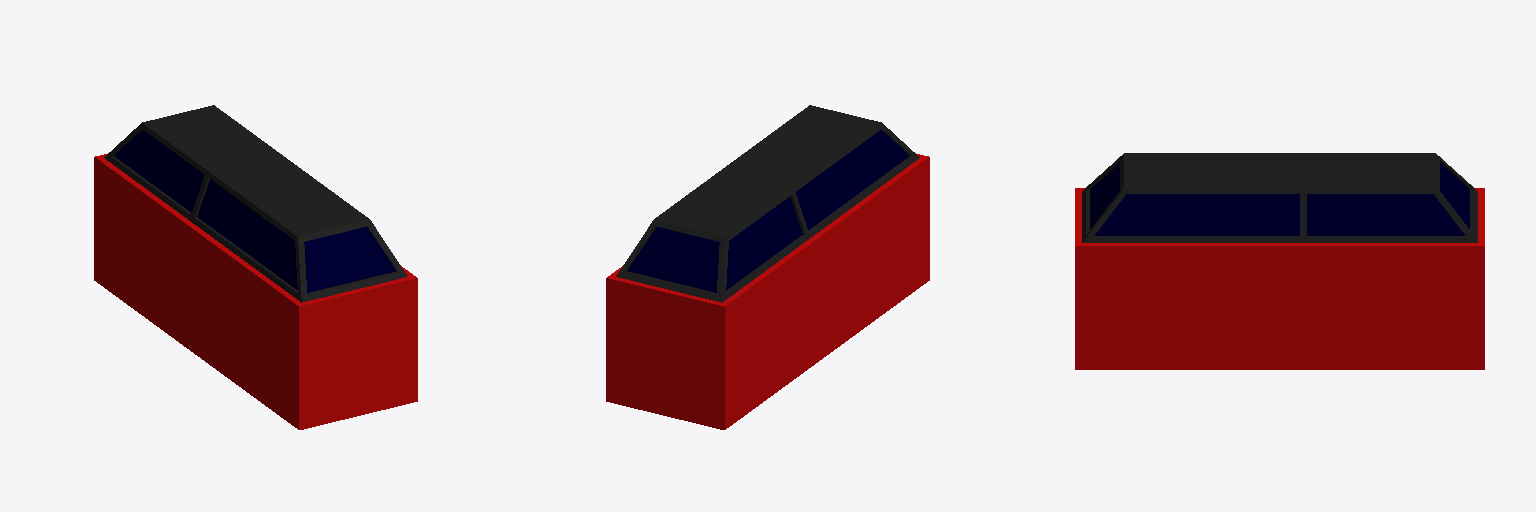
File: Cockpit2_Cursor.obj
3 renders of one model, left to right at view 1: azimuth 30°, elevation 25°; view 2: azimuth 150°, elevation 25°; view 3: azimuth 270°, elevation 25°, orthographic.
Parts seen in each view (by area): view 1: Canopy__Outside_Cube.001; view 2: Canopy__Outside_Cube.001; view 3: Canopy__Outside_Cube.001.
Part boxes in pixels (x1,y1,x2,y2): Canopy__Outside_Cube.001: (94, 105, 417, 429); Canopy__Outside_Cube.001: (606, 105, 929, 429); Canopy__Outside_Cube.001: (1075, 153, 1484, 369).
Size of the model in its own units: 1 by 1.38 by 3.